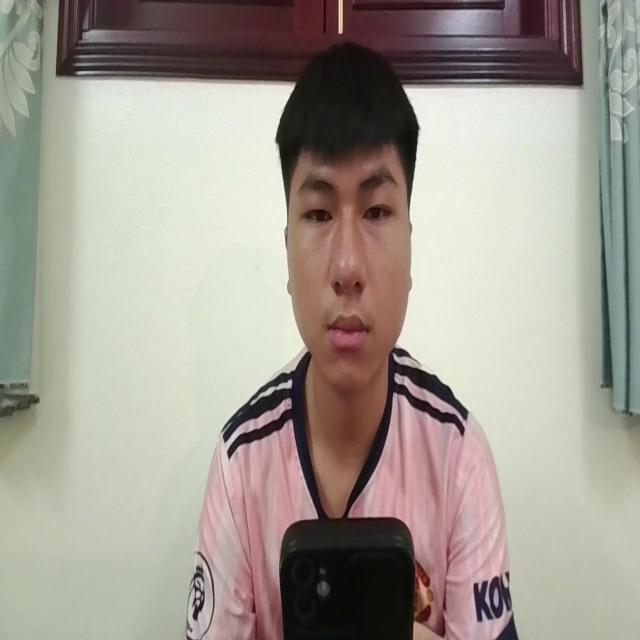phone: (277, 503, 418, 640)
student: (184, 37, 512, 640)
